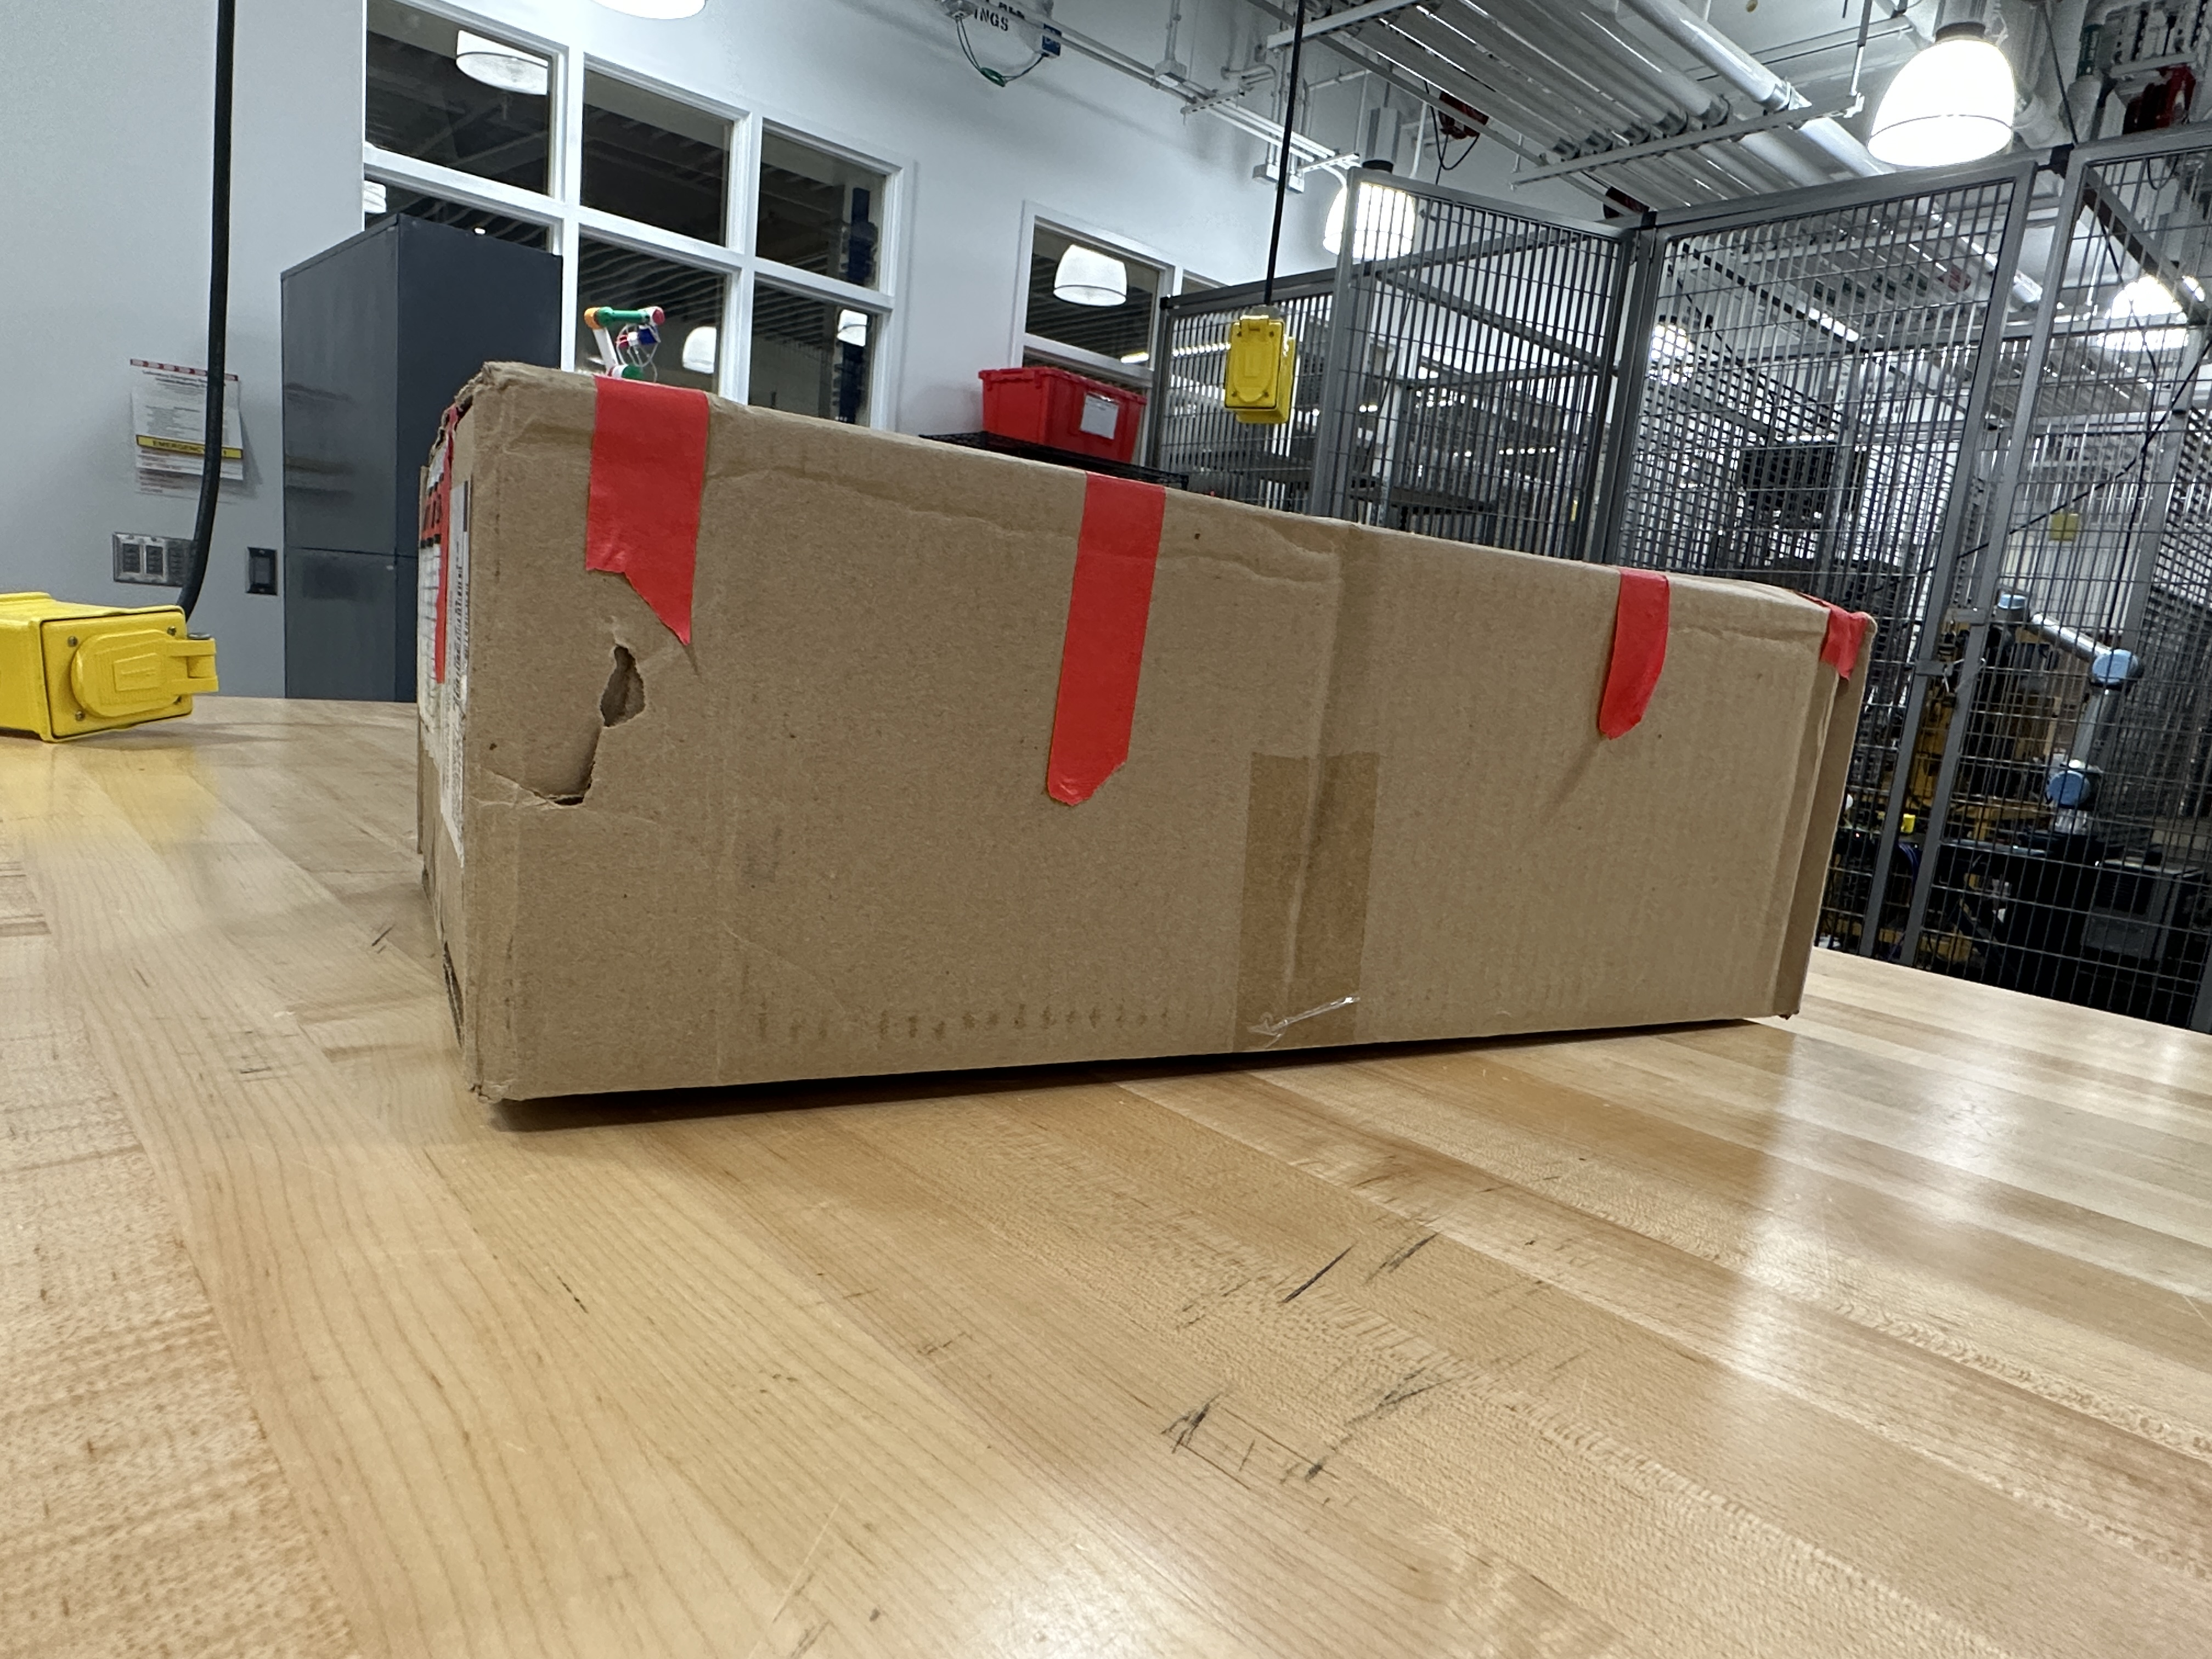Box_Obstacle: (394, 350, 1892, 1127)
